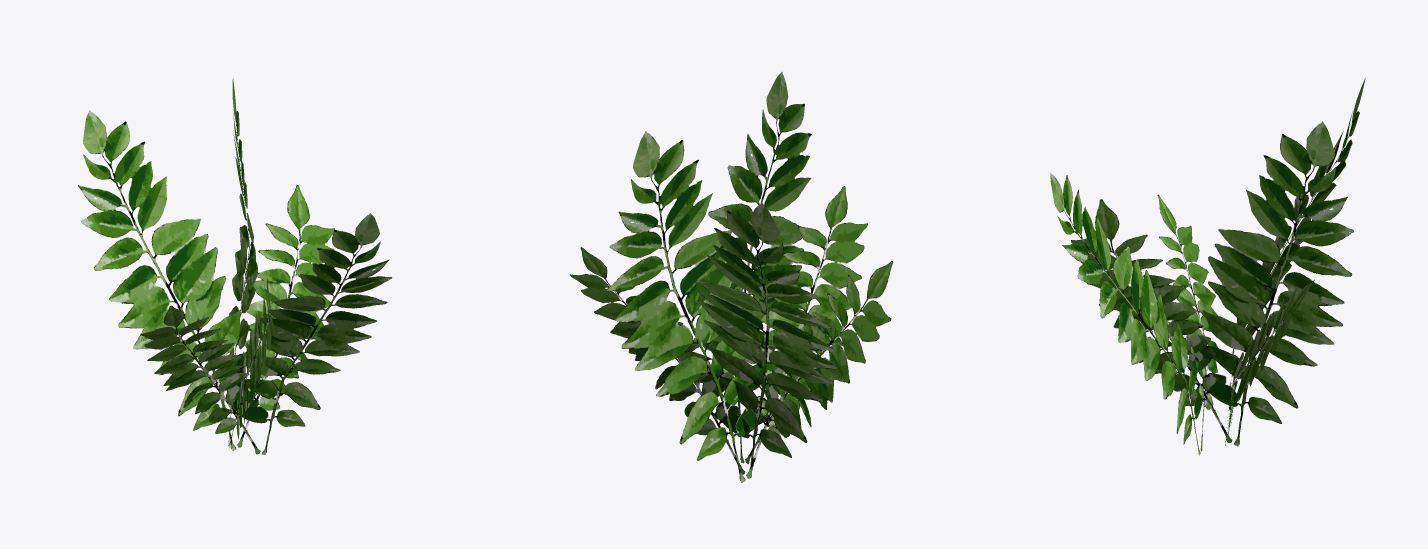
The model's file is TreeSmall1.fbx.
The picture shows the model from 3 angles, left to right: view 1: azimuth 30°, elevation 25°; view 2: azimuth 150°, elevation 25°; view 3: azimuth 270°, elevation 25°; orthographic projection. The views are drawn at different scales.
Parts seen in each view (by area): view 1: TreeSmall1; view 2: TreeSmall1; view 3: TreeSmall1.
Boxes of the visible parts, x1,y1,x2,y2 form: TreeSmall1: (77, 78, 392, 454); TreeSmall1: (569, 72, 893, 482); TreeSmall1: (1050, 77, 1365, 455).
Bounding box in the file's own units: 199 × 200 × 191.
